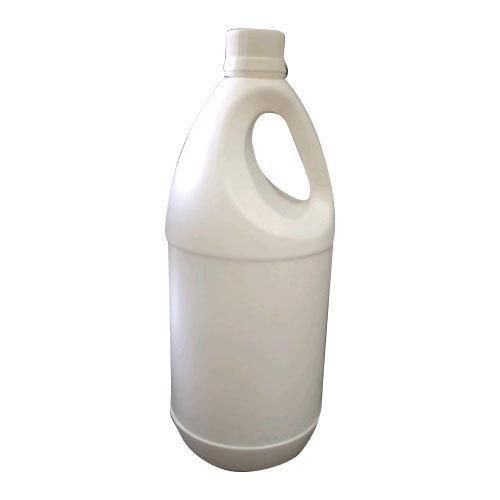HDPE: (114, 17, 382, 500)
